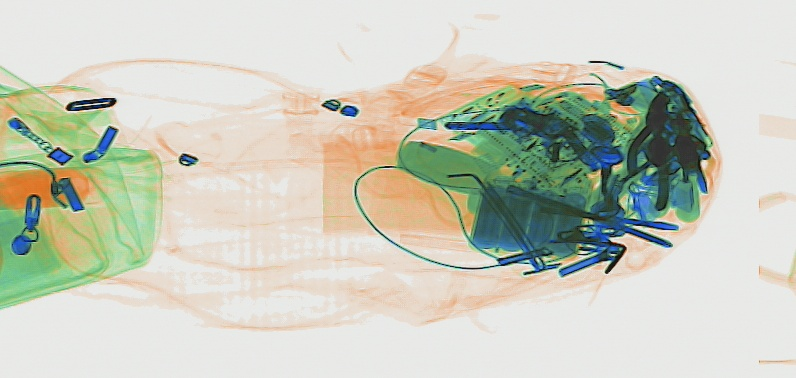powerbank: (465, 170, 599, 263)
